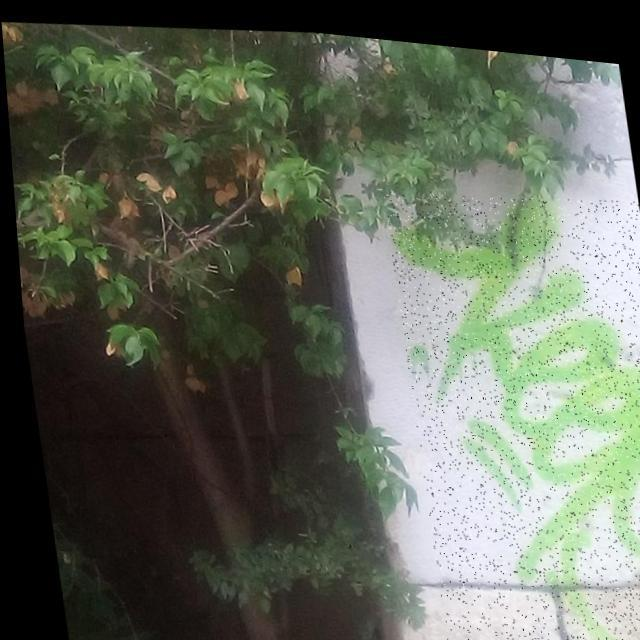-: (379, 166, 640, 640)
